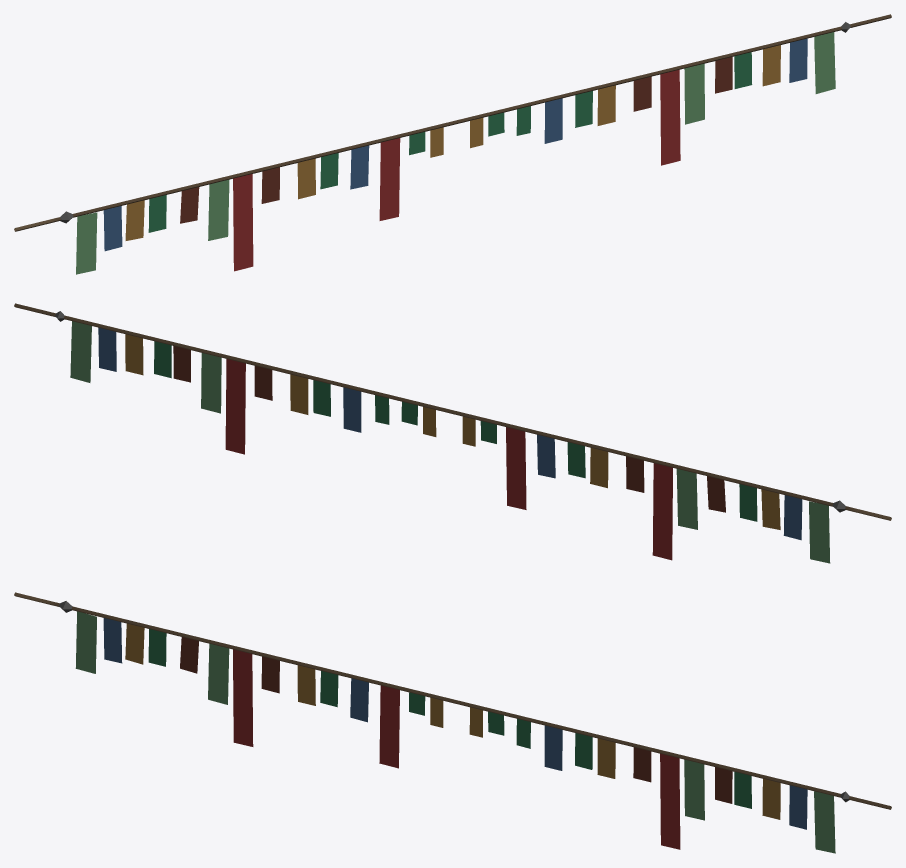
Rendered from ZLP_Build_F_18.FBX.
3 views of the same model, one above another, from view 1: azimuth 30°, elevation 25°; view 2: azimuth 150°, elevation 25°; view 3: azimuth 330°, elevation 25° (orthographic).
Visible parts, largest first — view 1: ZLP_Build_F_18; view 2: ZLP_Build_F_18; view 3: ZLP_Build_F_18.
Boxes of the visible parts, bbox=[...] form: ZLP_Build_F_18: bbox=[14, 14, 891, 274]; ZLP_Build_F_18: bbox=[14, 303, 891, 563]; ZLP_Build_F_18: bbox=[14, 592, 891, 853].
Bounding box in the file's own units: 1212 × 134 × 16.16.
